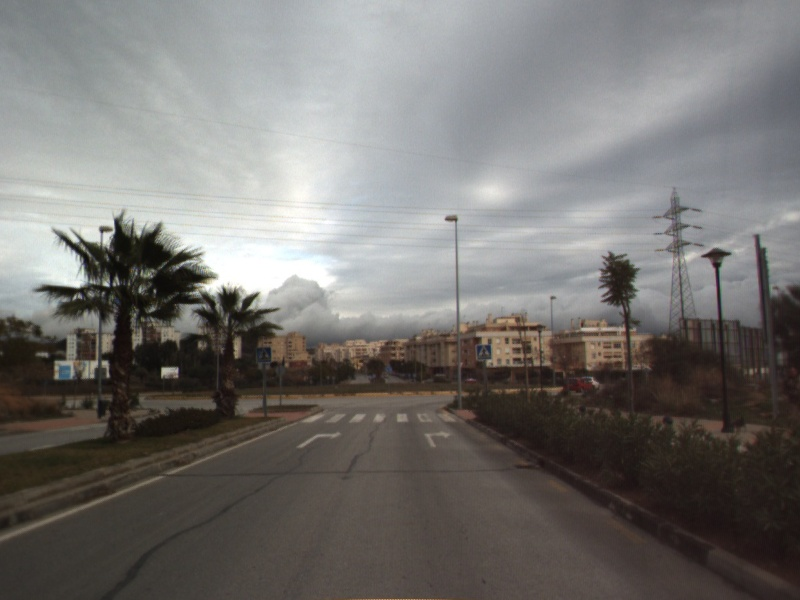RIGHT: (294, 429, 344, 450), (422, 429, 453, 449)
